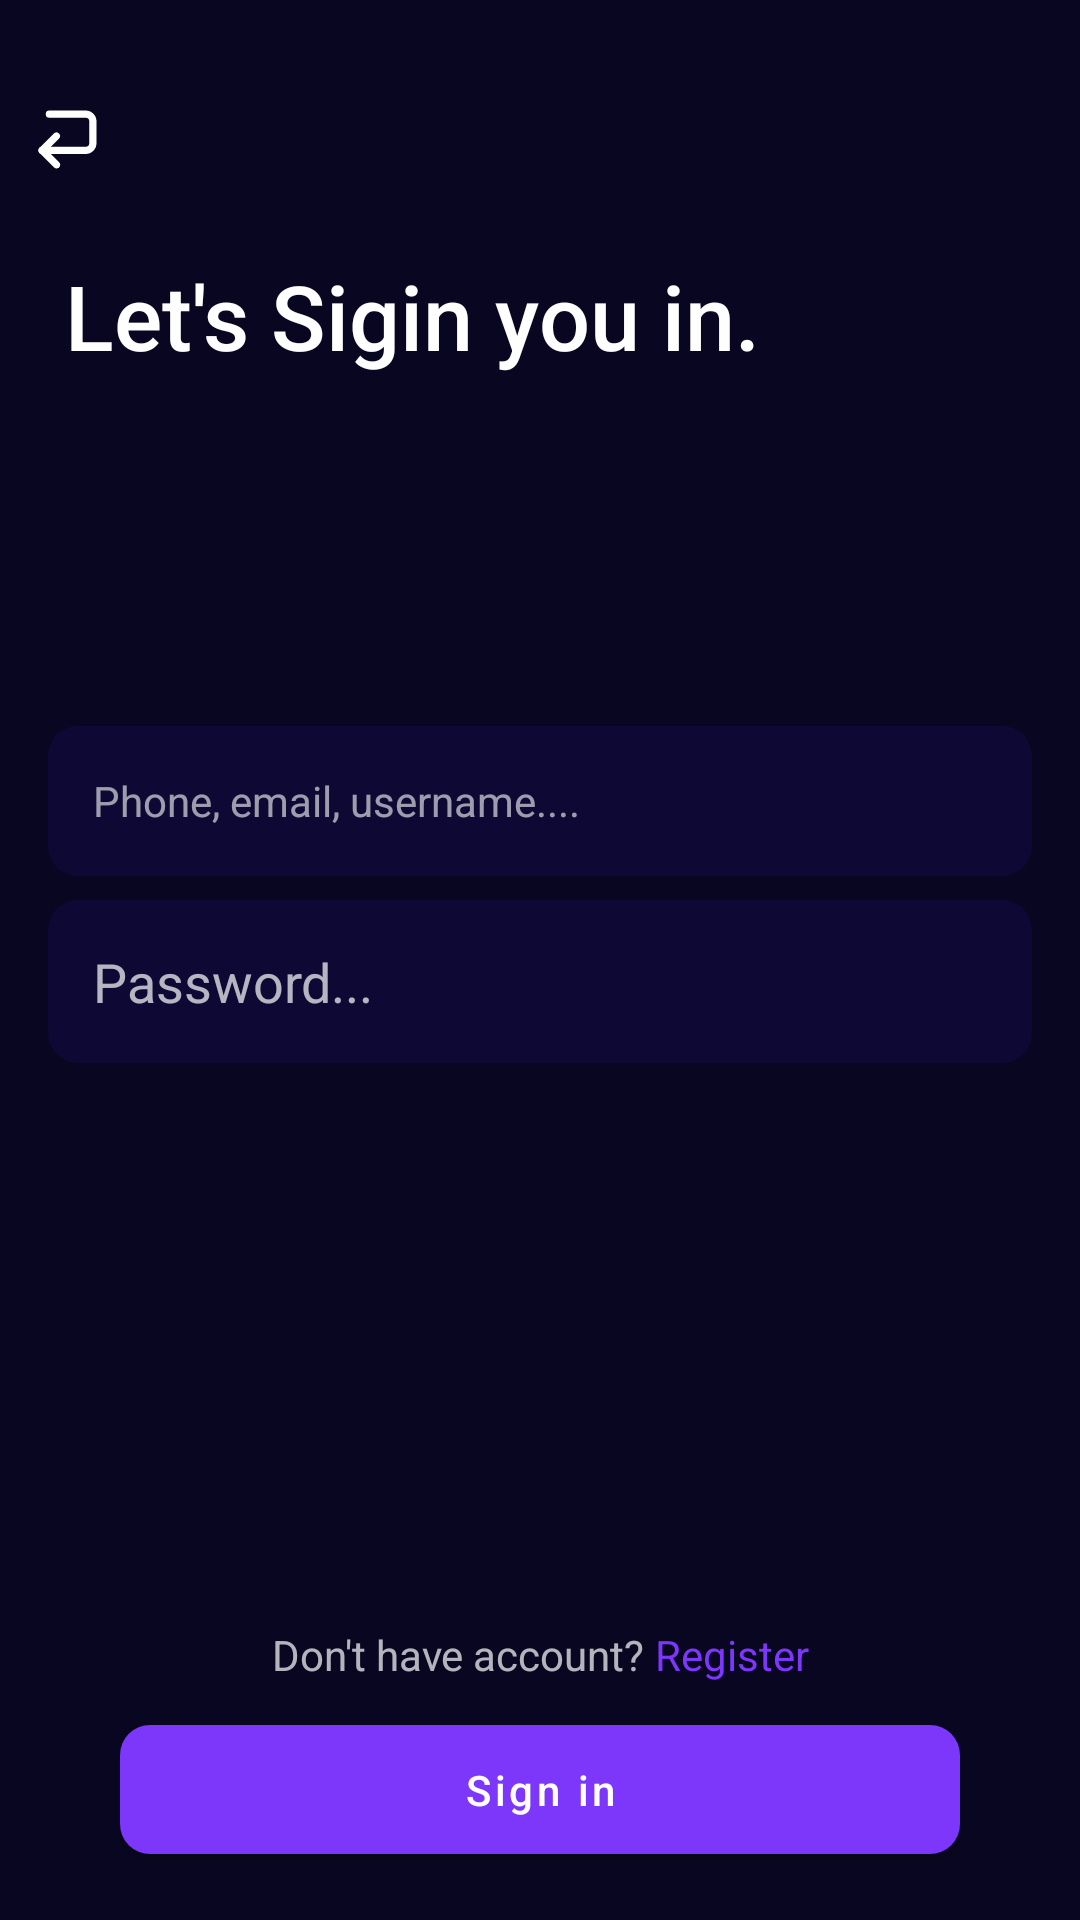

Icon click points for this 1080px x 1920px phone screenshot, format (x,y):
back: (67,139)
